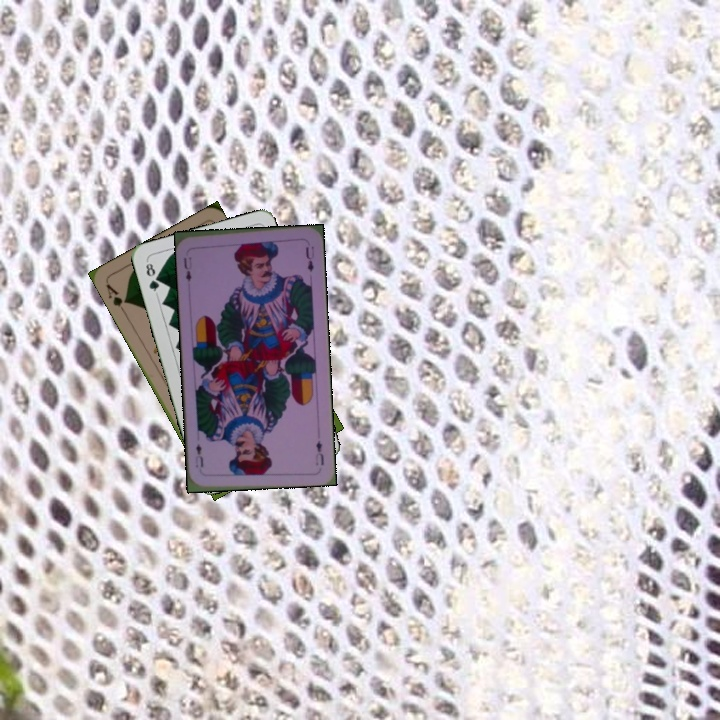EU: (311, 436, 326, 468), (180, 253, 195, 284)
G8: (142, 257, 162, 297)
GA: (102, 280, 130, 316)
